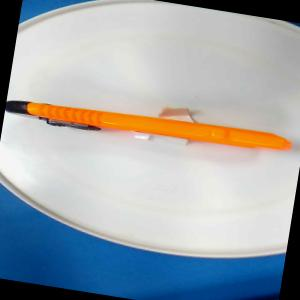estilete: (3, 89, 294, 162)
